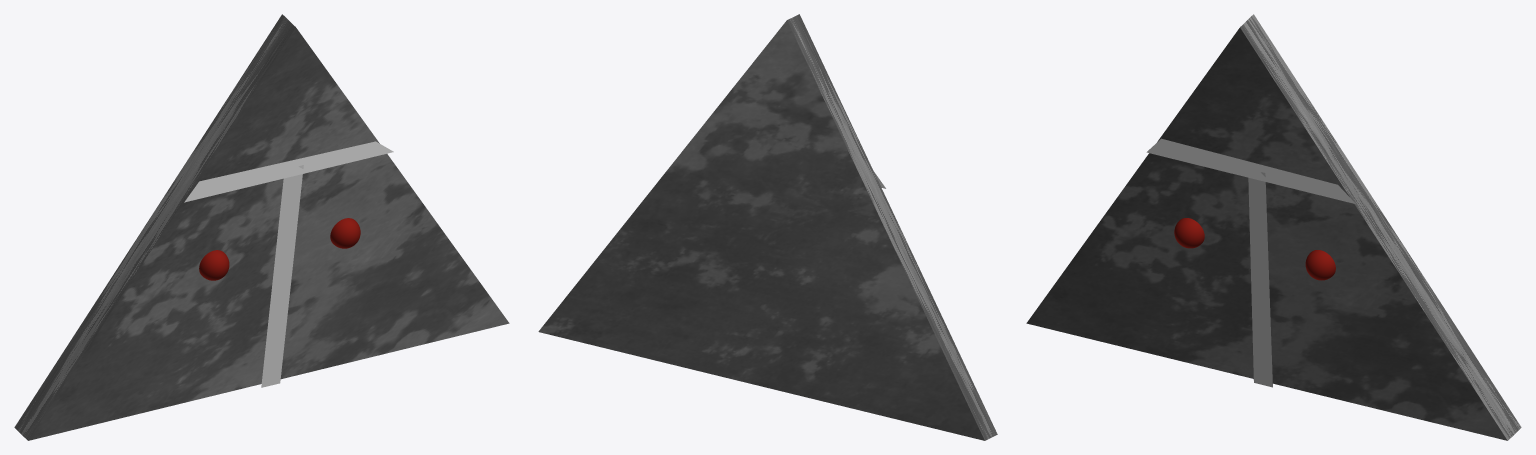
Rendered from factory_door.fbx.
The picture shows the model from 3 angles, left to right: view 1: azimuth 30°, elevation 25°; view 2: azimuth 150°, elevation 25°; view 3: azimuth 330°, elevation 25°; orthographic projection. The views are drawn at different scales.
Visible parts, largest first — view 1: Door, Plane.001, Plane, Doorknob, Doorknob 2; view 2: Door; view 3: Door, Plane.001, Plane, Doorknob 2, Doorknob.
Boxes of the visible parts, <box> form: Door: <box>14,14,509,440</box>; Plane.001: <box>261,165,303,387</box>; Plane: <box>184,141,393,202</box>; Doorknob: <box>199,250,229,280</box>; Doorknob 2: <box>330,218,360,248</box>; Door: <box>538,14,997,440</box>; Door: <box>1026,14,1521,440</box>; Plane.001: <box>1248,172,1272,387</box>; Plane: <box>1146,138,1355,203</box>; Doorknob 2: <box>1305,250,1335,280</box>; Doorknob: <box>1174,218,1204,248</box>.
Size of the model in its own units: 200 by 151 by 29.46.
Materials: 5 (1 with a texture image).
